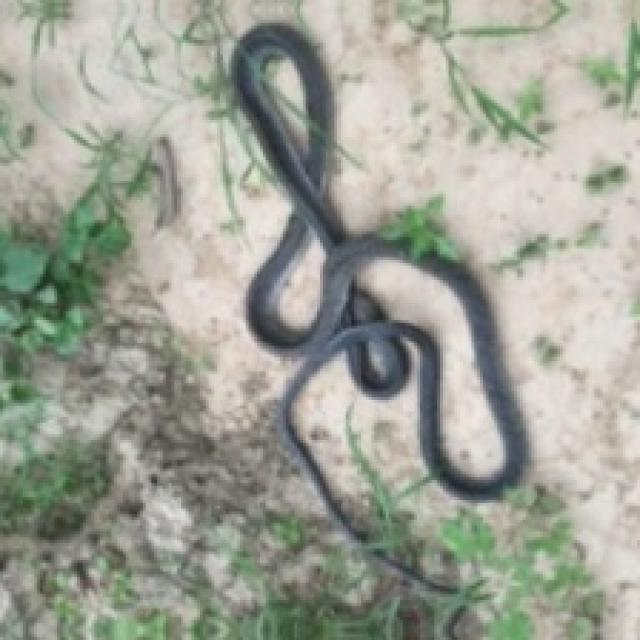king cobra: (231, 23, 526, 591), (354, 257, 503, 474)
